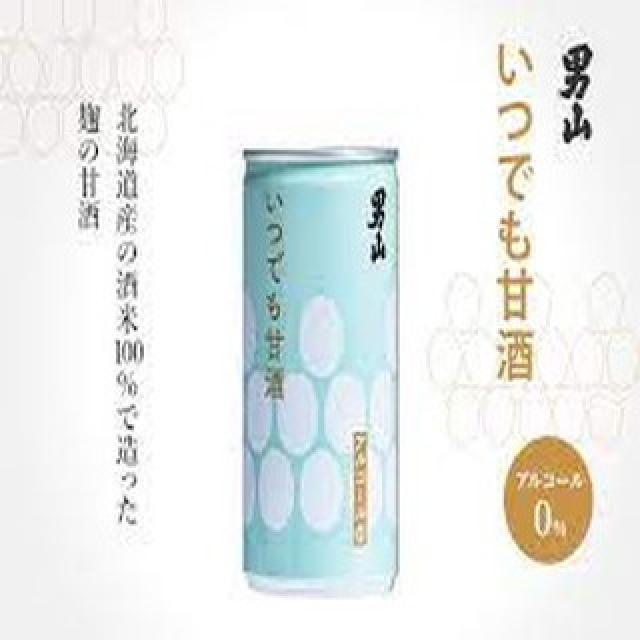can: (240, 142, 415, 610)
